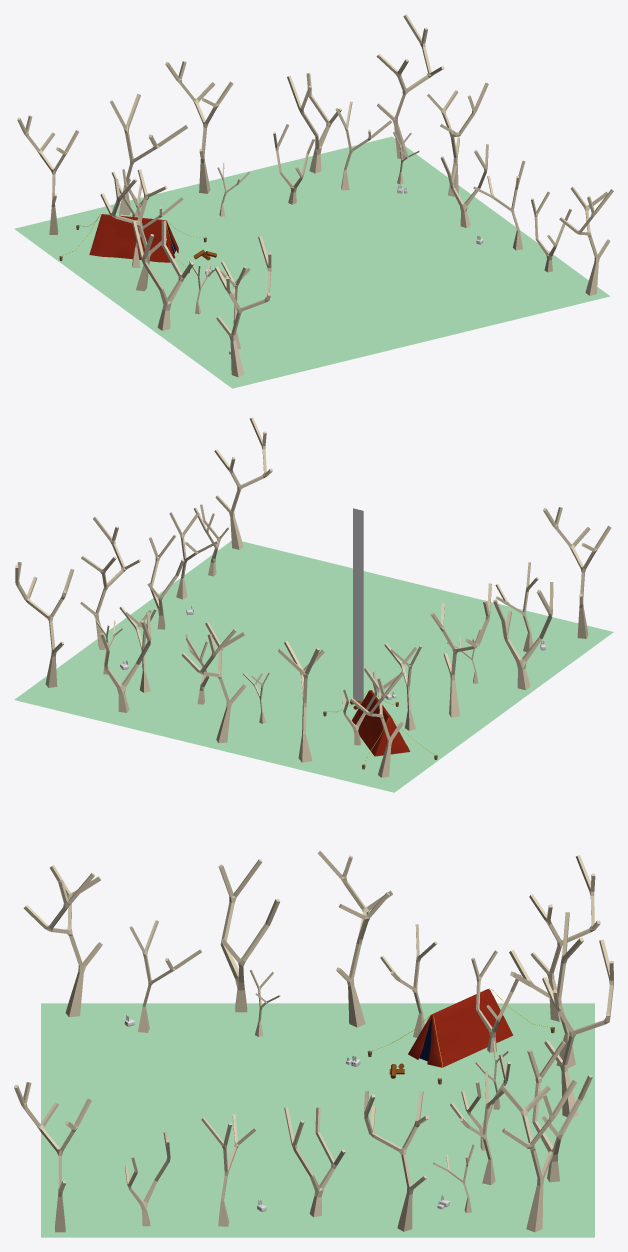
The model's file is place.glb.
3 views of the same model, one above another, from view 1: azimuth 30°, elevation 25°; view 2: azimuth 150°, elevation 25°; view 3: azimuth 270°, elevation 25° (orthographic). The views are drawn at different scales.
Parts seen in each view (by area): view 1: grass, tree; view 2: grass, tree, smoke; view 3: grass, tree.
Part boxes in pixels (<box>): grass: <box>14,136,610,388</box>; tree: <box>17,14,613,377</box>; grass: <box>14,541,613,792</box>; tree: <box>15,417,611,777</box>; smoke: <box>353,508,363,701</box>; grass: <box>41,1003,594,1237</box>; tree: <box>14,851,613,1232</box>.
Size of the model in its own units: 8.65 by 3.97 by 8.66.
